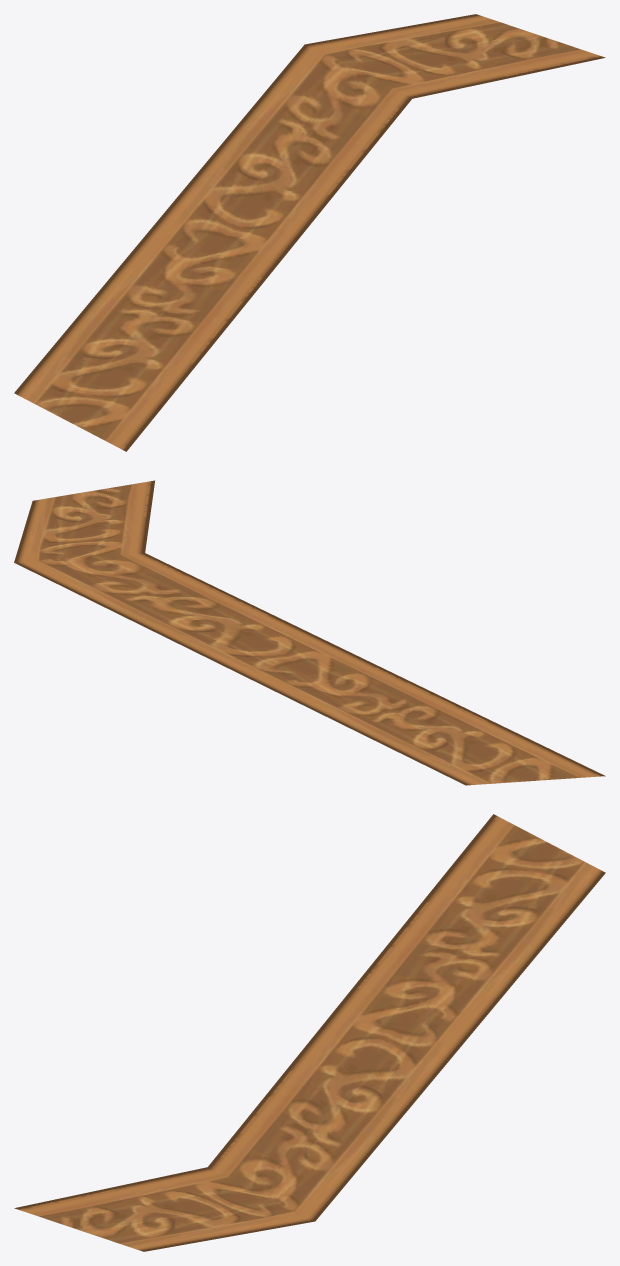
File: EKH_THRONE_PS_TH_FLOORTRIM_0011.fbx
The picture shows the model from 3 angles, top to bottom: view 1: azimuth 90°, elevation 25°; view 2: azimuth 150°, elevation 25°; view 3: azimuth 270°, elevation 25°; orthographic projection. The views are drawn at different scales.
Visible parts, largest first — view 1: EKH_THRONE_PS_TH_FLOORTRIM_0011; view 2: EKH_THRONE_PS_TH_FLOORTRIM_0011; view 3: EKH_THRONE_PS_TH_FLOORTRIM_0011.
Part boxes in pixels (x1=…): EKH_THRONE_PS_TH_FLOORTRIM_0011: x1=14, y1=14, x2=605, y2=451; EKH_THRONE_PS_TH_FLOORTRIM_0011: x1=14, y1=480, x2=605, y2=785; EKH_THRONE_PS_TH_FLOORTRIM_0011: x1=14, y1=814, x2=605, y2=1251.
Bounding box in the file's own units: 19295 × 0.00271 × 11024.
1 material, 1 textured.
